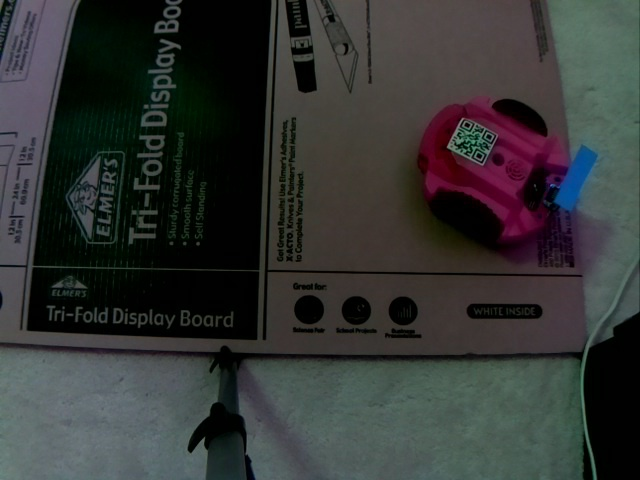chassis: (414, 95, 600, 244)
qr: (444, 111, 499, 169)
